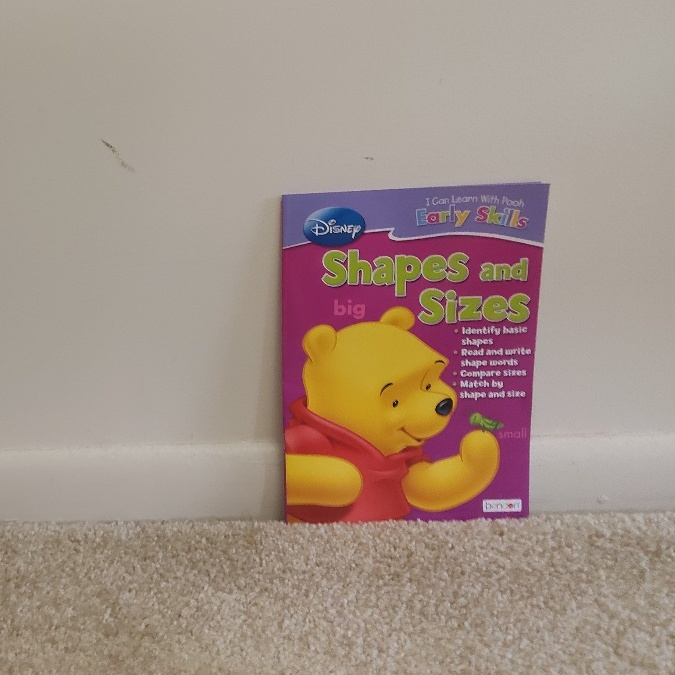book: (284, 196, 530, 516)
